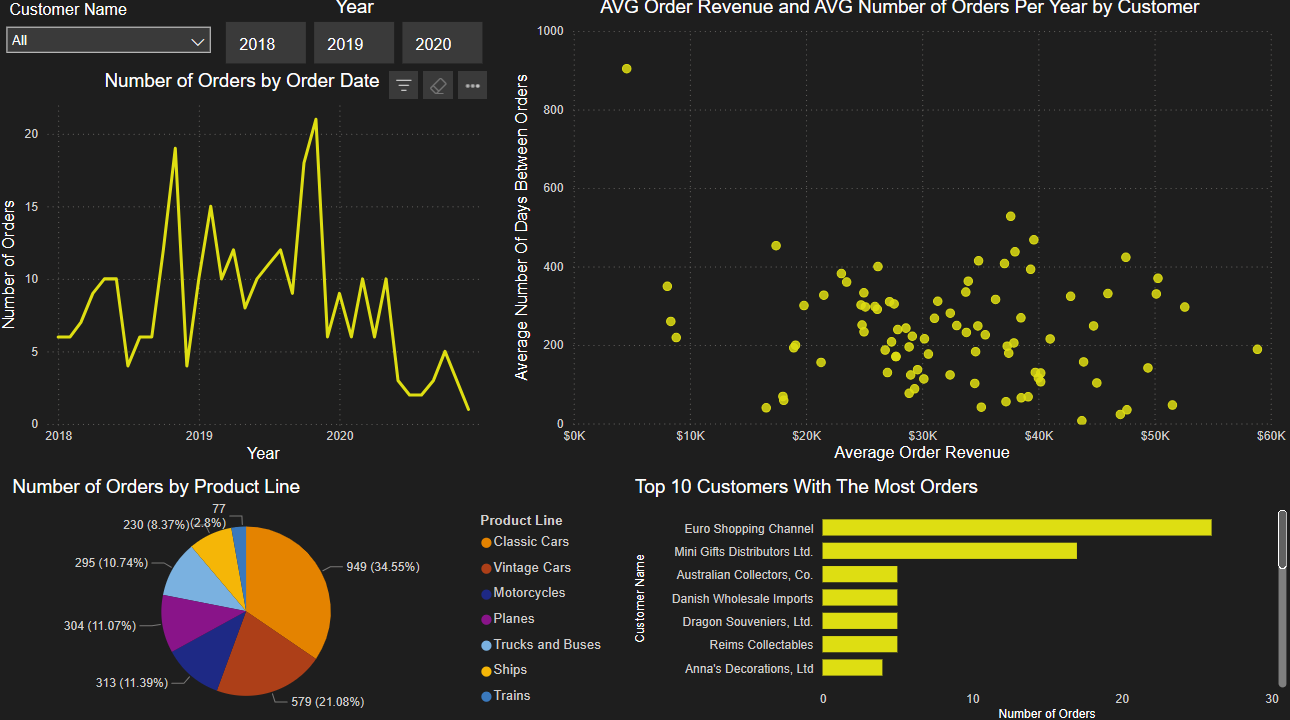

This screenshot's page, from the dashboard's own definition file:
{"tool":"powerbi","page":{"name":"Customers","canvas":[1280,720],"ordinal":2},"visuals":[{"type":"barChart","title":"Top 10 Customers With The Most Orders","fields":{"Category":["Auto Sales data.CUSTOMERNAME"],"Y":["Count(Auto Sales data.ORDERNUMBER)"]},"box":[625.8,473.6,654,246.6],"z":0},{"type":"scatterChart","title":"AVG Order Revenue  and AVG Number of Orders Per Year by Customer","fields":{"Category":["Auto Sales data.CUSTOMERNAME"],"Y":["Avg(NewTable.AvgDays)"],"X":["Auto Sales data.Average_Sales_per_Order"]},"box":[506.8,0,773,465],"z":1000},{"type":"lineChart","title":"Number of Orders by Order Date","fields":{"Y":["Count(Auto Sales data.ORDERNUMBER)"],"Category":["Auto Sales data.ORDERDATE.Variation.Date Hierarchy.Year","Auto Sales data.ORDERDATE.Variation.Date Hierarchy.Month"]},"box":[0,72.4,485.9,392.6],"z":2000},{"type":"slicer","fields":{"Values":["Auto Sales data.CUSTOMERNAME"]},"box":[0,0,222.1,72.4],"z":3000},{"type":"advancedSlicerVisual","fields":{"Values":["Auto Sales data.ORDERDATE.Variation.Date Hierarchy.Year"]},"box":[222.1,0,263.8,72.4],"z":4000},{"type":"pieChart","title":"Number of Orders by Product Line","fields":{"Category":["Auto Sales data.PRODUCTLINE"],"Y":["CountNonNull(Auto Sales data.ORDERNUMBER)"]},"box":[11,473.6,601.2,246.6],"z":5000}]}

Visuals, with their boxes in screenshot pixels (x1, y1, x2, y2), scaled from the page's 1280x720 canvas onto the 1290x720 screenshot:
"Top 10 Customers With The Most Orders" barChart: [left=631, top=474, right=1289, bottom=719]
"AVG Order Revenue  and AVG Number of Orders Per Year by Customer" scatterChart: [left=511, top=0, right=1289, bottom=465]
"Number of Orders by Order Date" lineChart: [left=0, top=72, right=490, bottom=465]
slicer - Auto Sales data.CUSTOMERNAME: [left=0, top=0, right=224, bottom=72]
advancedSlicerVisual - Auto Sales data.ORDERDATE.Variation.Date Hierarchy.Year: [left=224, top=0, right=490, bottom=72]
"Number of Orders by Product Line" pieChart: [left=11, top=474, right=617, bottom=719]
